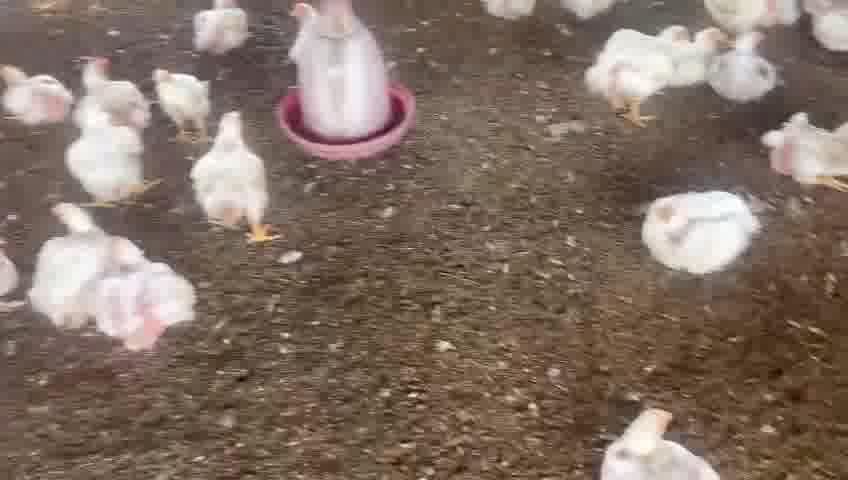Normal: (186, 112, 275, 245), (578, 20, 684, 129), (34, 189, 111, 330), (100, 235, 199, 344), (645, 186, 765, 275), (65, 106, 166, 208), (613, 407, 731, 480), (759, 101, 848, 195), (134, 46, 215, 123), (718, 29, 782, 111), (58, 56, 140, 119), (669, 9, 726, 88), (191, 1, 263, 60)
